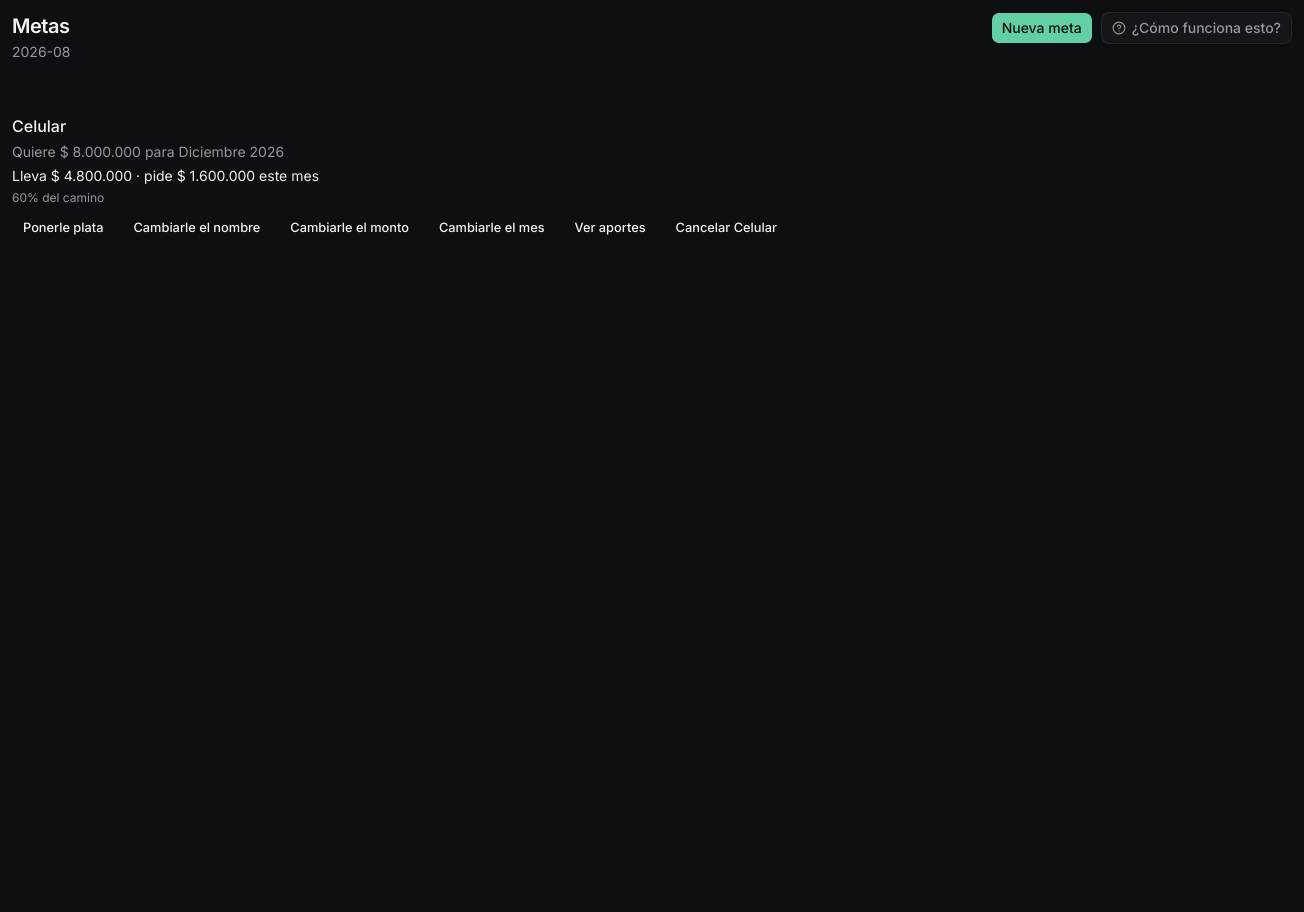
it: AC-45 — the form says what the meta will ask before it is created › The form says so instead of quoting a figure
Expected: the text "Celular" is shown, 12,114 -> 66,138
Click the button "Nueva meta".
click(1042, 28)  # box 991,12 -> 1093,44
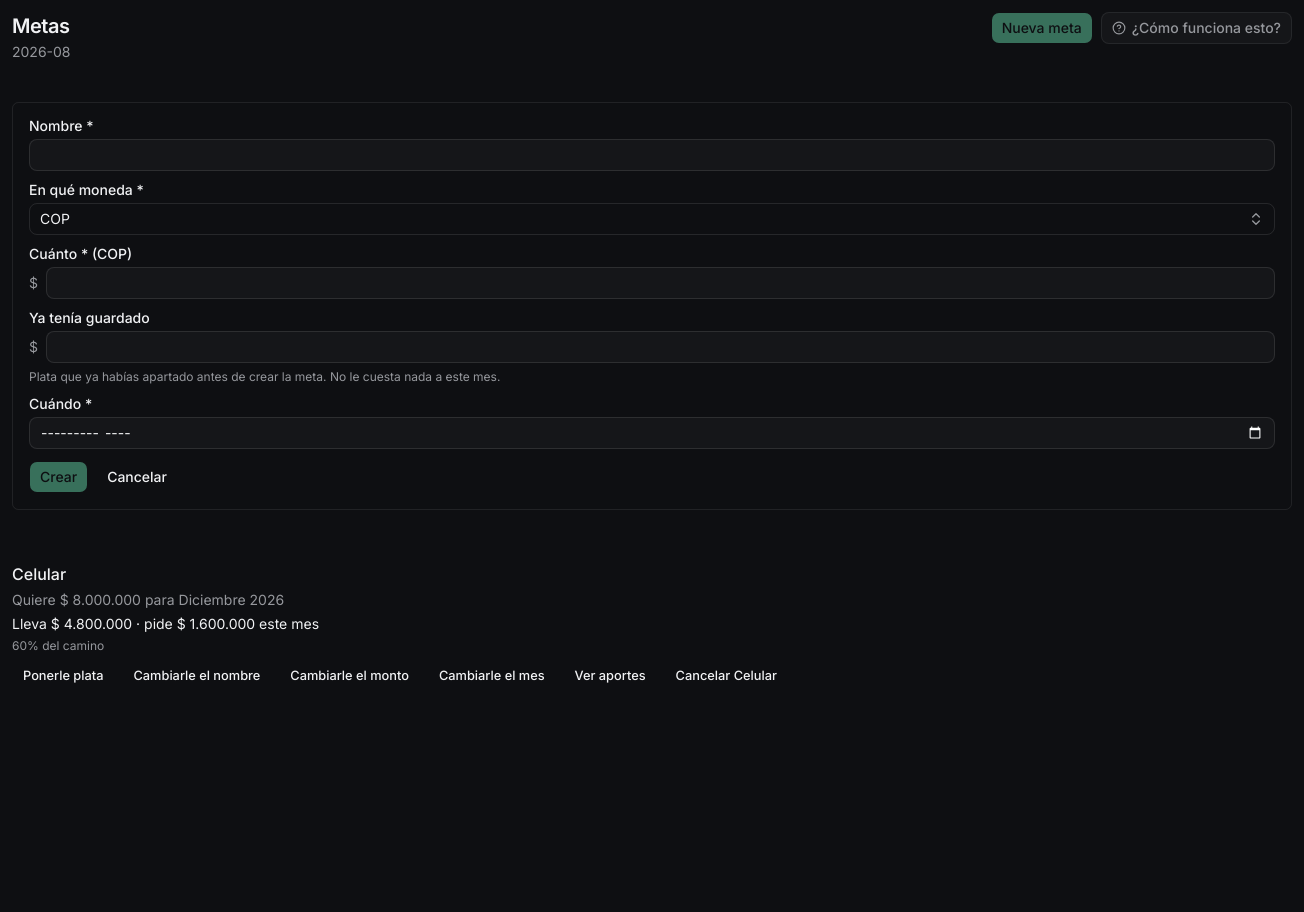
Type "Casa" into the field labelled "Nombre *".
click(652, 155); type("Casa")  # box 29,139 -> 1275,171
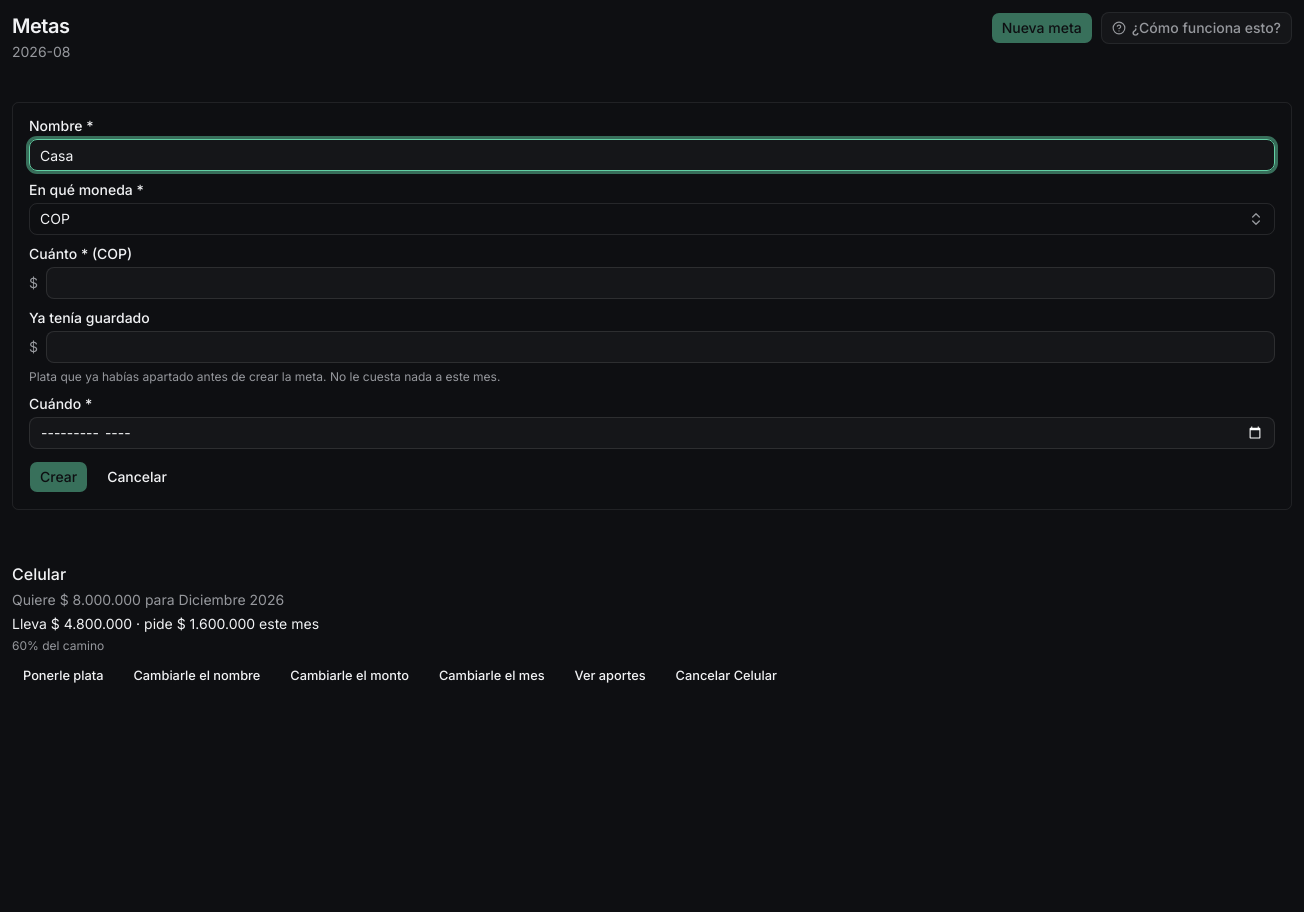
Type "5000000" into the field labelled "Cuánto * (COP)".
click(660, 283); type("5000000")  # box 46,267 -> 1275,299
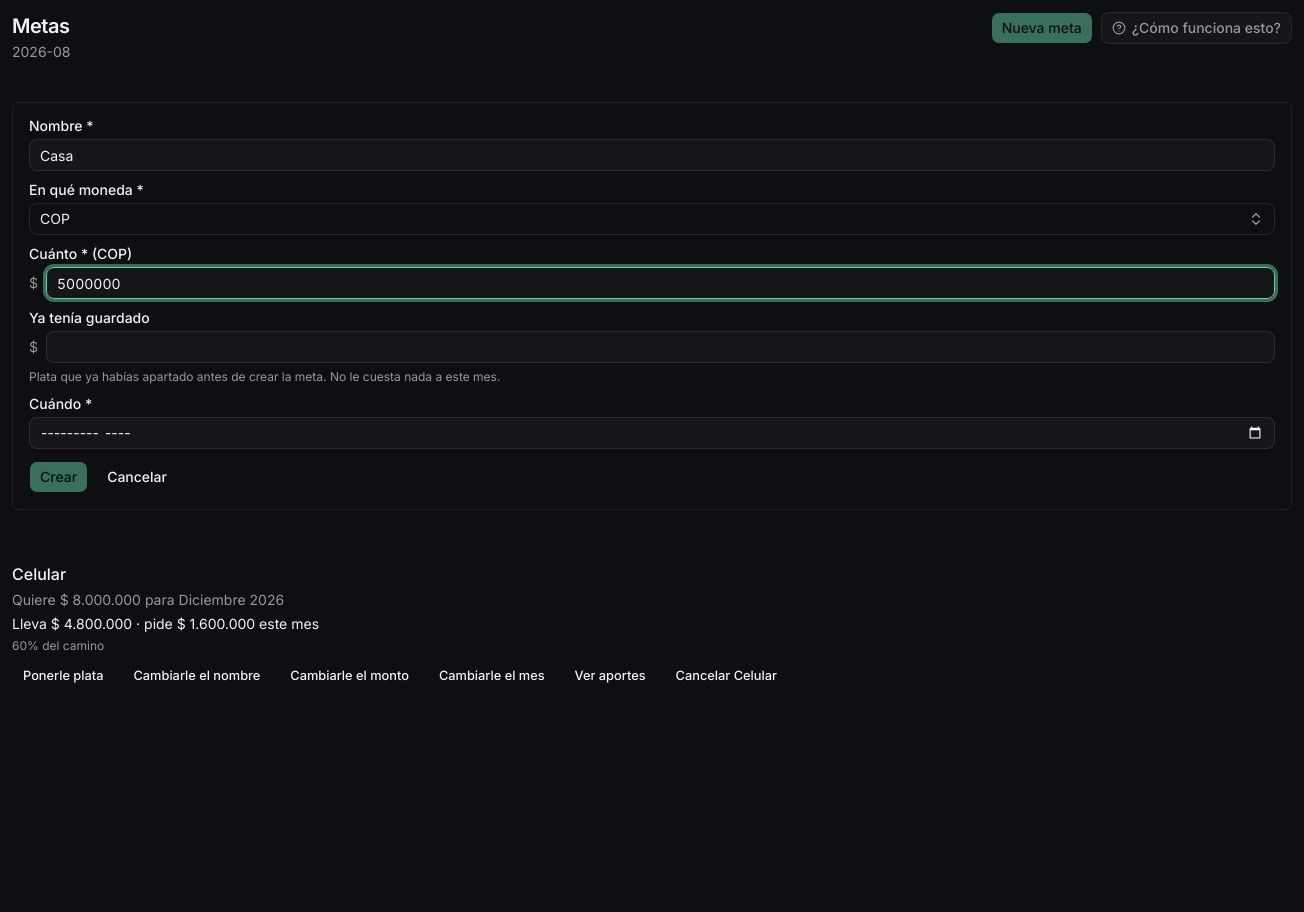
Type "2026-12" into the field labelled "Cuándo *".
click(652, 433); type("2026-12")  # box 29,417 -> 1275,449
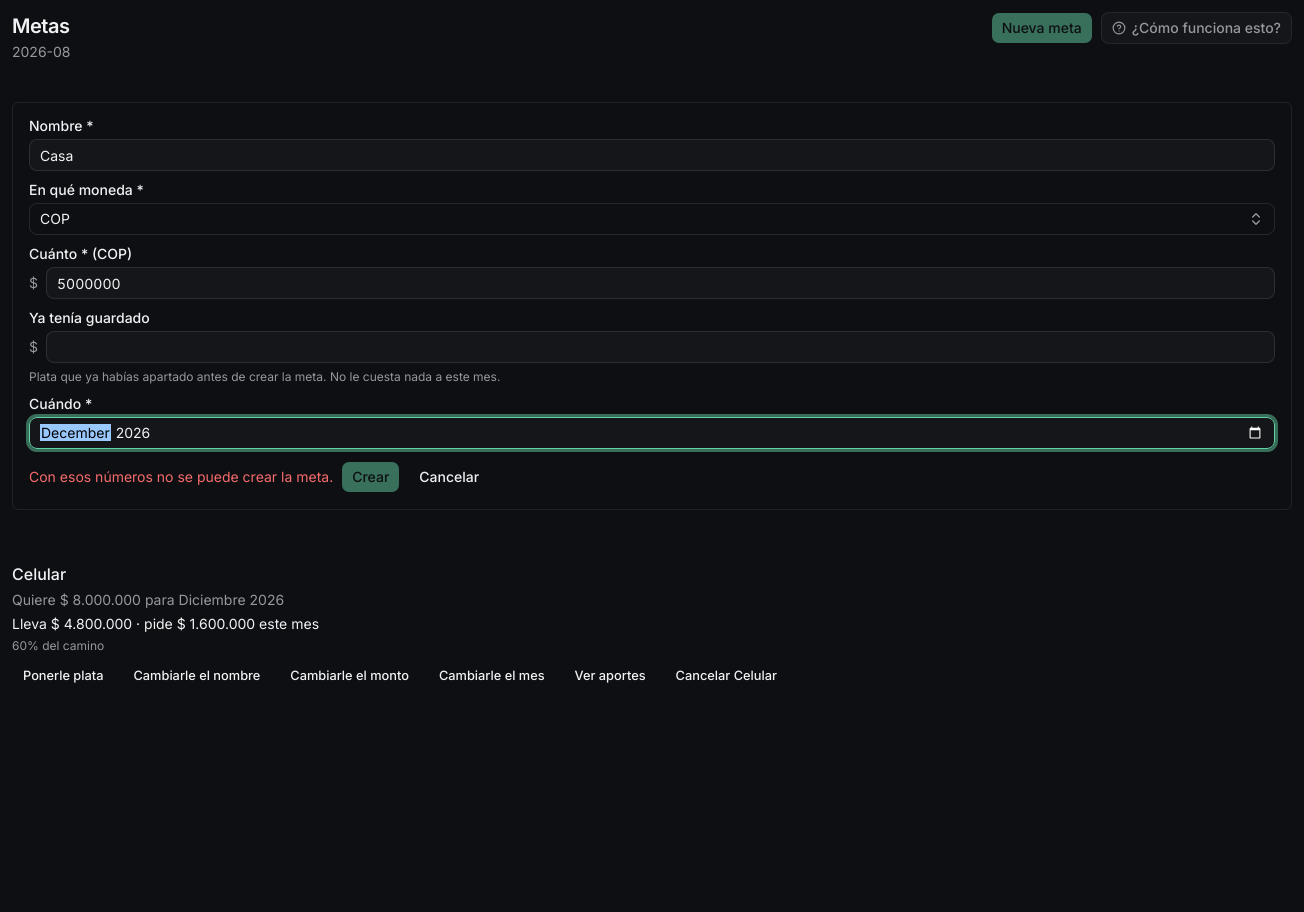
Expected: the button "Crear" is disabled, 341,461 -> 400,493
Expected: the message shows "no se puede crear la meta", 29,468 -> 333,485
